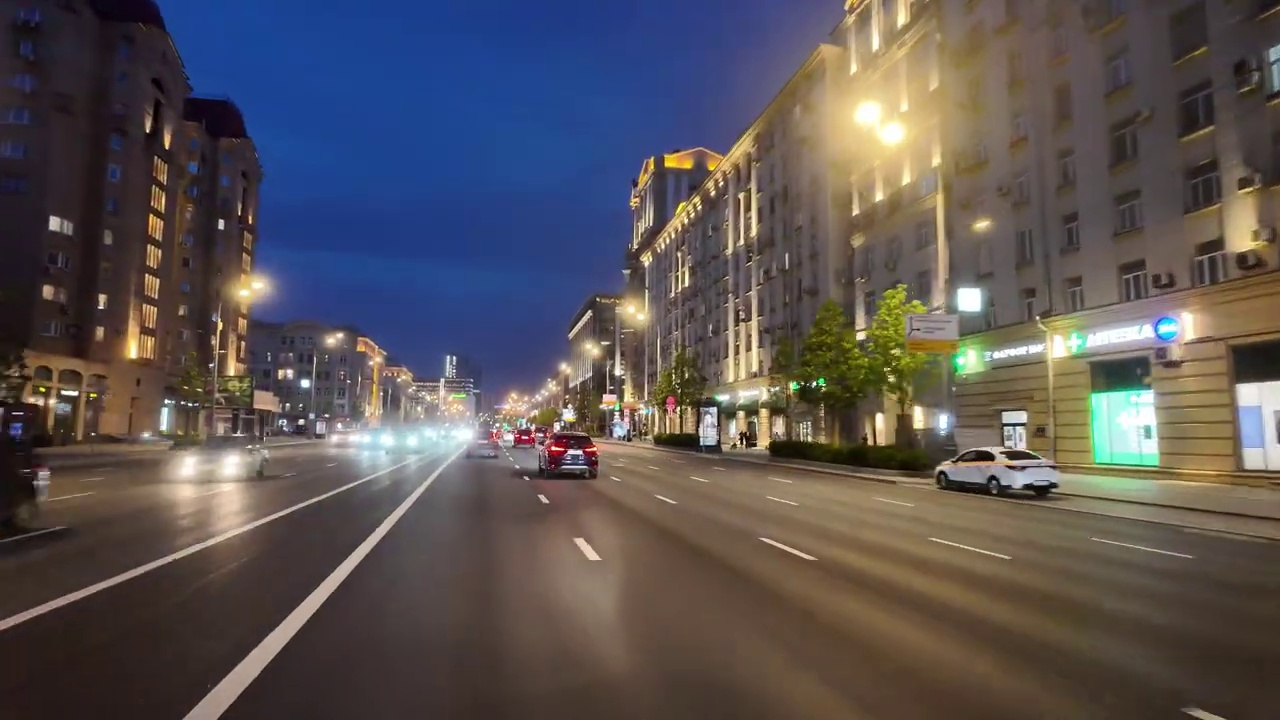acesa: (846, 93, 910, 150), (227, 272, 267, 308), (619, 295, 651, 328), (967, 216, 994, 238), (323, 331, 345, 351)
